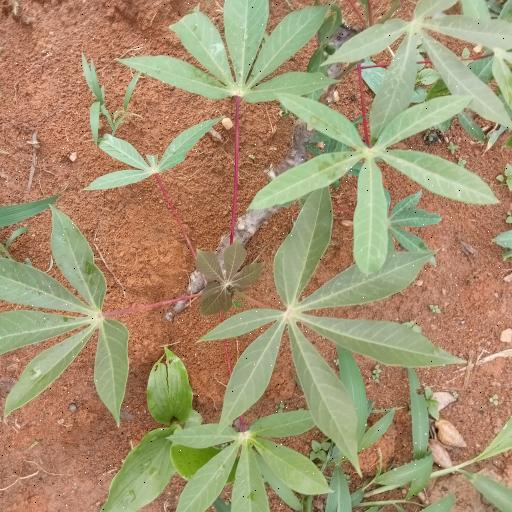Cassava_Mosaic: (212, 198, 459, 446)
